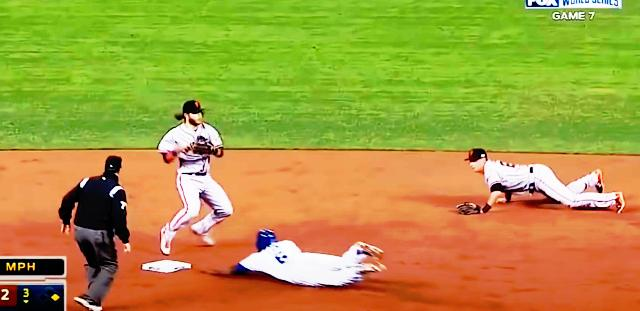jatuh: (190, 222, 390, 292), (453, 145, 625, 223)
